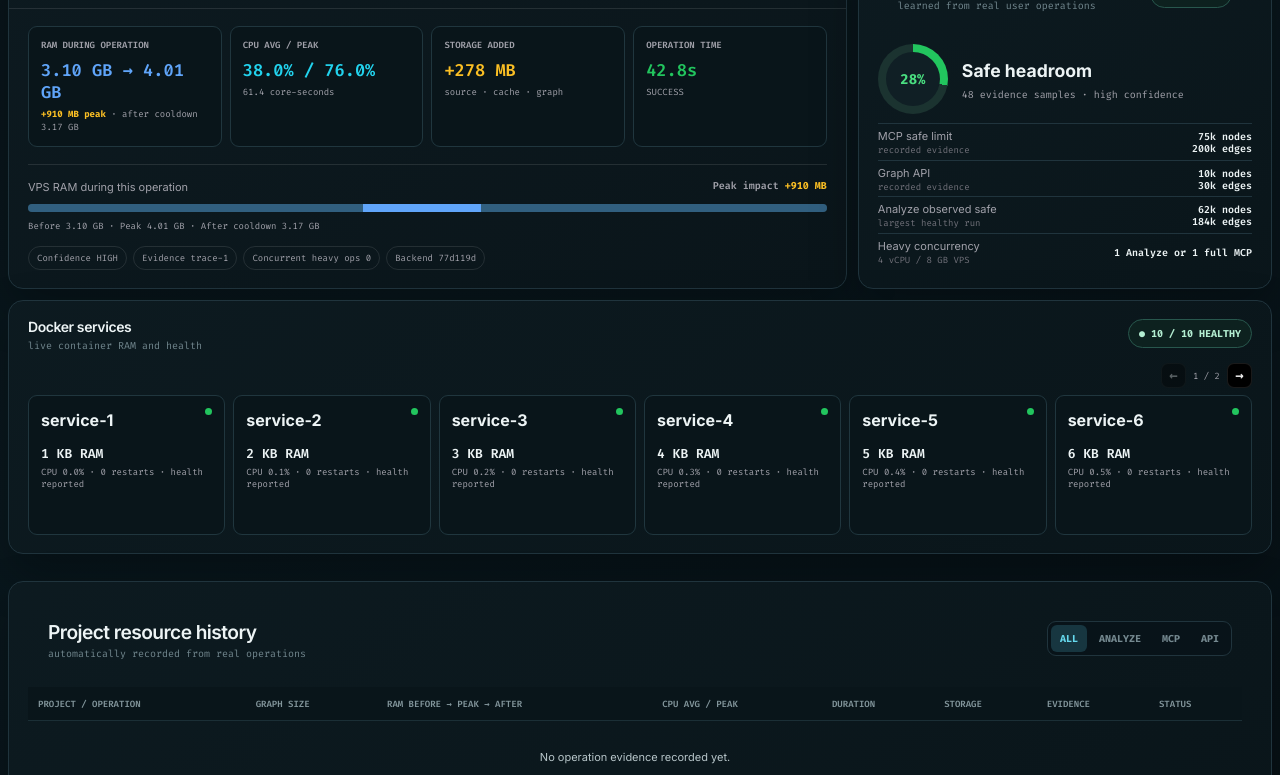
VpsMonitorView › shows six Docker services on a standard desktop before paging the remainder
(page scrolled)
Expected: the number of elements with class "service-card" is 6, [28, 395, 225, 535]; [233, 395, 431, 535]; [439, 395, 636, 535]; [644, 395, 841, 535]; [849, 395, 1047, 535]; [1055, 395, 1252, 535]
Expected: the element with class "services-toolbar" shows "1 / 2", [1193, 370, 1220, 382]
Click the button named "Next Docker service row". click: [1240, 376]
box: [1227, 363, 1252, 388]
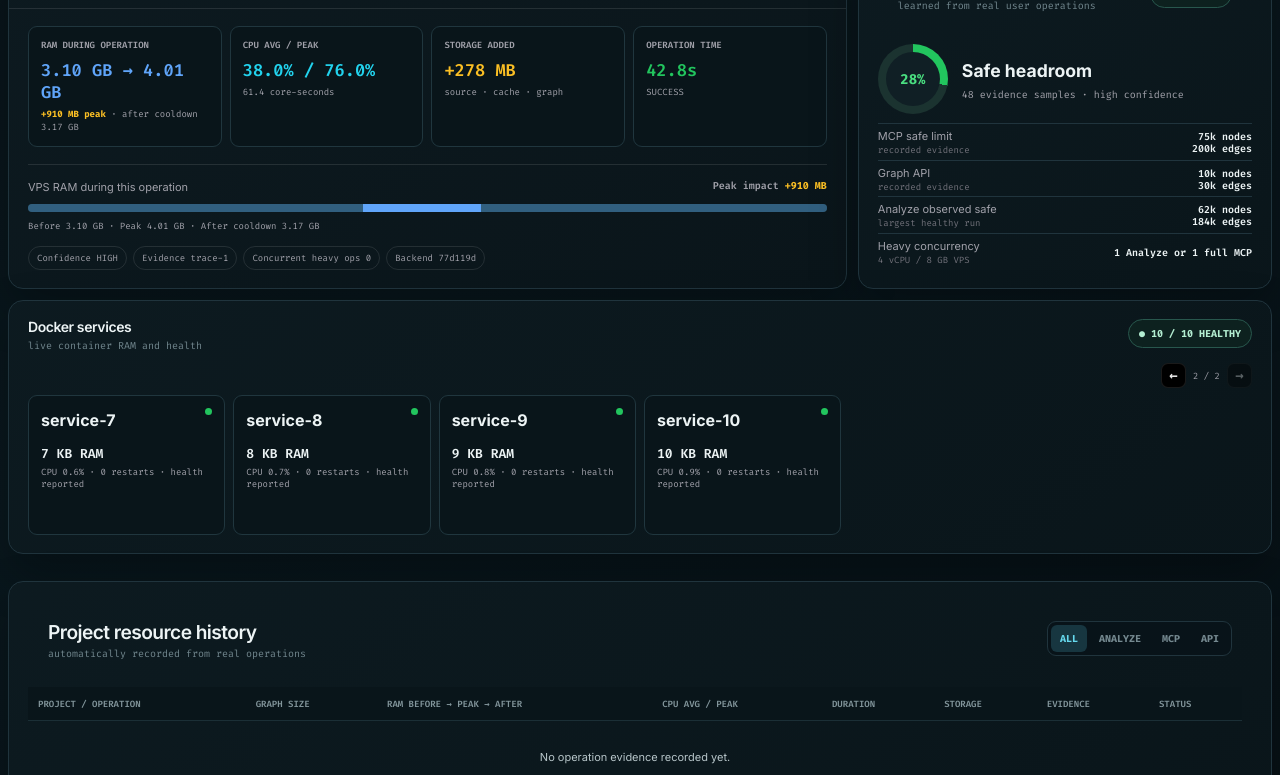
Result: the number of elements with class "service-card" is 4 at [28, 395, 225, 535]; [233, 395, 431, 535]; [439, 395, 636, 535]; [644, 395, 841, 535]
Result: the text "service-7" is shown at [41, 408, 116, 434]
Result: the text "service-10" is shown at [657, 408, 740, 434]
